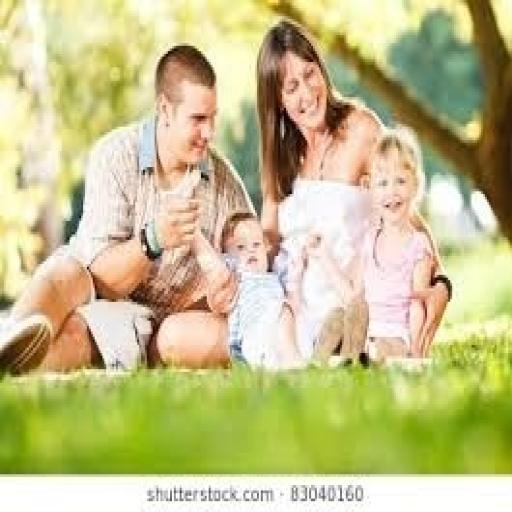sitting: (0, 40, 257, 380), (226, 16, 452, 372), (352, 124, 452, 364)
